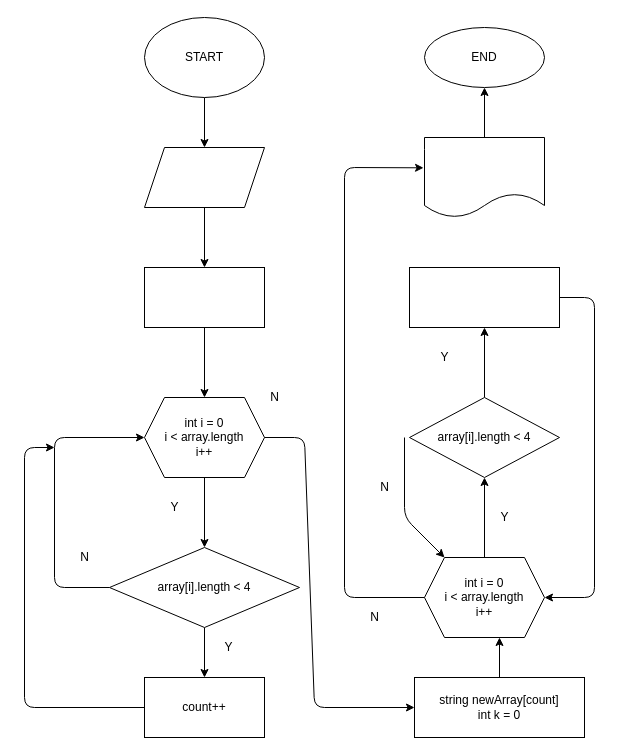
Some shapes in this 620 by 755 pixel diagram are drawn without their labels. The shapes that lost their labels are listed below. From the top down, each one's centre as x and y in pixels, then its label:
At point 204,177: "int n string array[n] array[i]".
At point 484,177: "newArray".
At point 204,297: "int count = 0".
At point 484,297: "newArray[k] = array[i] k++".
